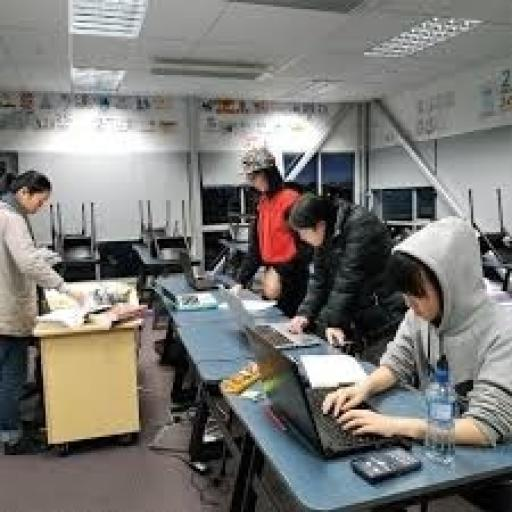sitting: (318, 214, 510, 510)
